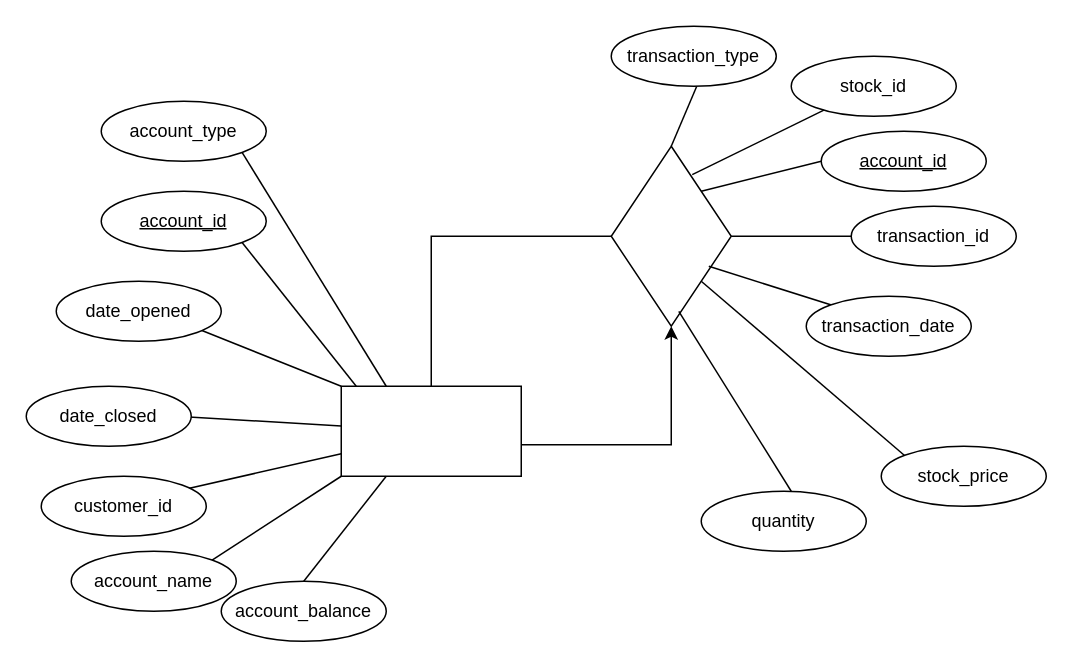
This 1073x668 diagram has some shape labels left out. Here are the shapes that lost their labels. From the top down, the centre of each, then its label:
At point (670, 235): "transaction".
At point (430, 430): "Account".
